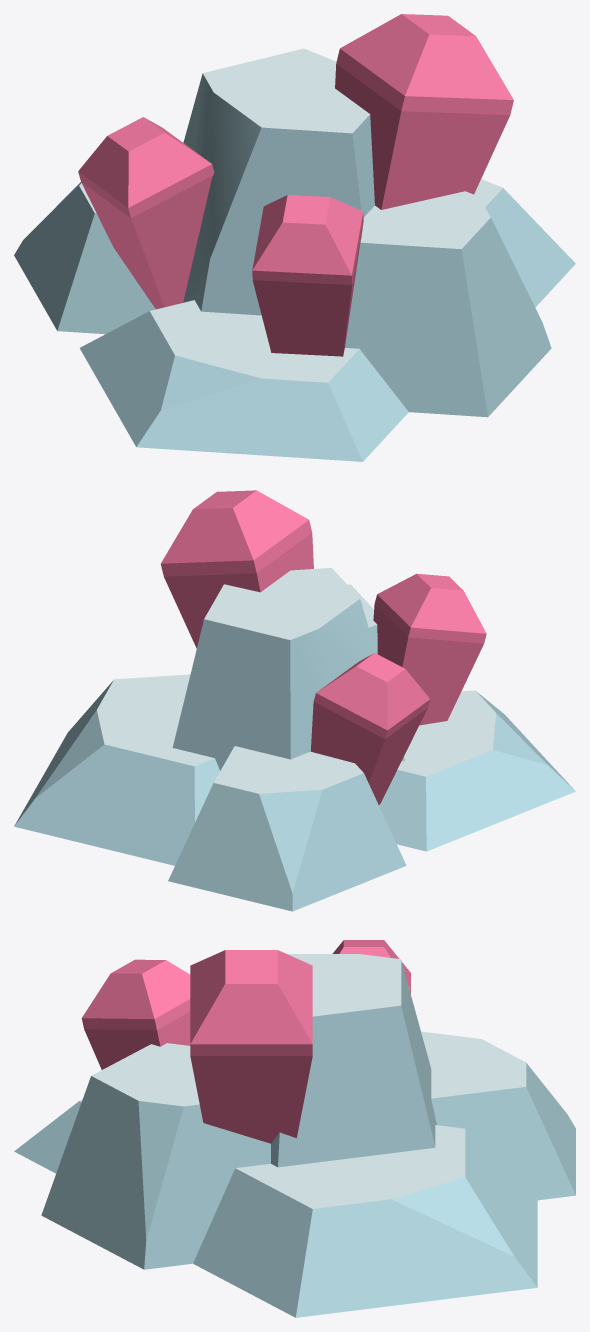
The model's file is snow_detail_crystalLarge.fbx.
The picture shows the model from 3 angles, top to bottom: view 1: azimuth 30°, elevation 25°; view 2: azimuth 150°, elevation 25°; view 3: azimuth 270°, elevation 25°; orthographic projection. The views are drawn at different scales.
Visible parts, largest first — view 1: rocks, crystal (×3); view 2: rocks, crystal (×3); view 3: rocks, crystal (×3).
Boxes of the visible parts, x1,y1,x2,y2 form: rocks: (14,48,575,461); crystal (×3): (78,14,513,356); rocks: (14,567,575,911); crystal (×3): (161,490,486,804); rocks: (14,954,575,1317); crystal (×3): (81,940,410,1143).
Bounding box in the file's own units: 10 × 5.56 × 10.
